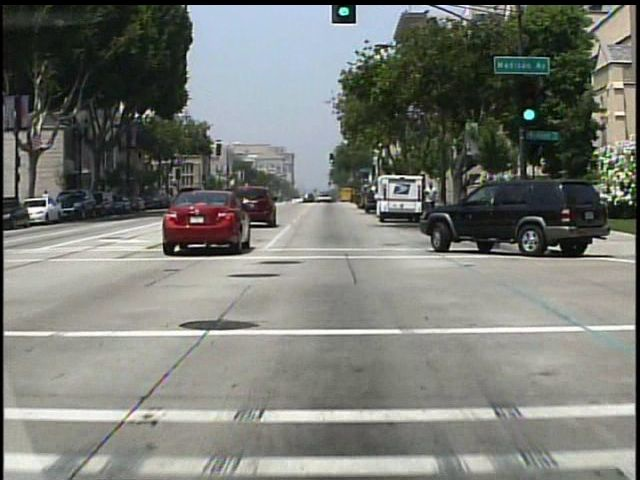person: (423, 182, 439, 221), (354, 185, 368, 213), (42, 188, 54, 212)
